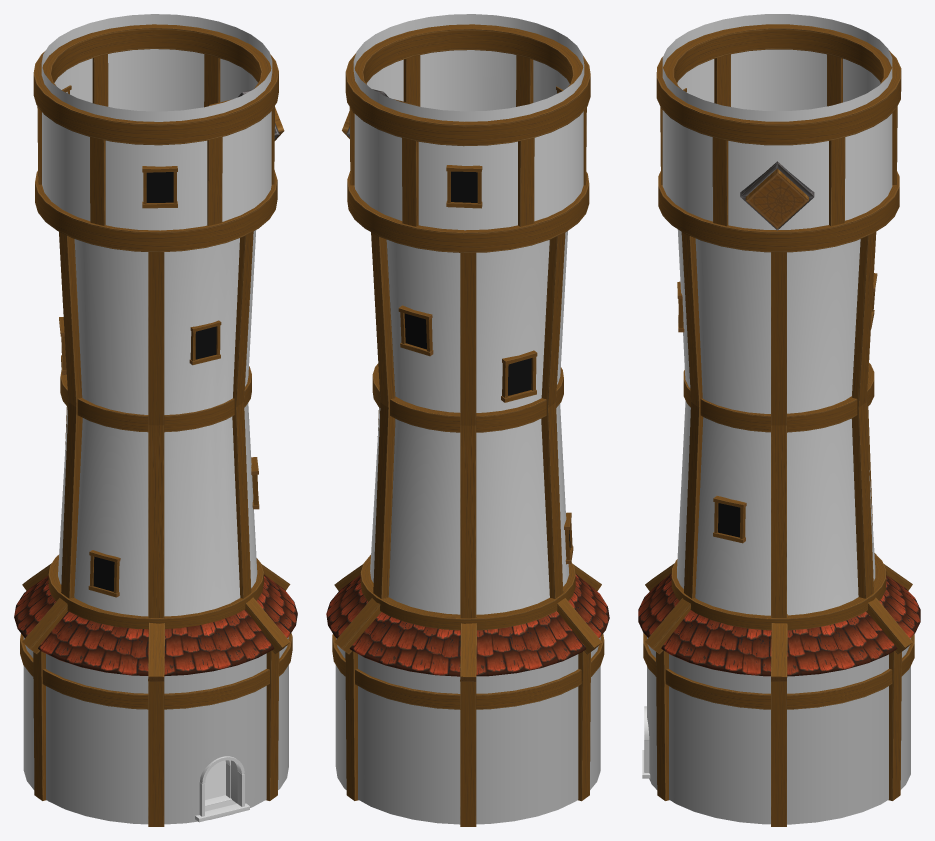
File: SM_WIndmill_Base.fbx
The picture shows the model from 3 angles, left to right: view 1: azimuth 30°, elevation 25°; view 2: azimuth 150°, elevation 25°; view 3: azimuth 270°, elevation 25°; orthographic projection.
Visible parts, largest first — view 1: SM_WIndmill_Base; view 2: SM_WIndmill_Base; view 3: SM_WIndmill_Base.
Boxes of the visible parts, <box> form: SM_WIndmill_Base: <box>14,14,297,826</box>; SM_WIndmill_Base: <box>326,14,609,826</box>; SM_WIndmill_Base: <box>638,14,920,826</box>.
Size of the model in its own units: 17.09 by 44.37 by 16.07.
